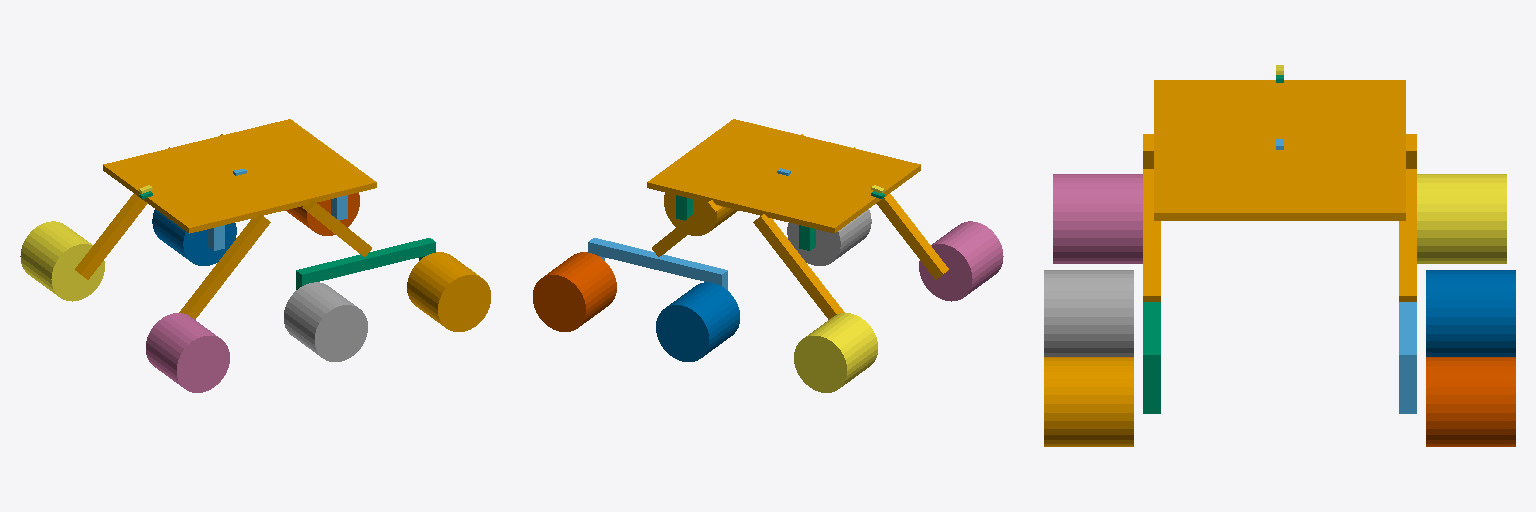
URDF robot description (rover):
<?xml version="1.0"?>

<robot name="rover">
  <link name="chassis">
    <inertial>
      <origin xyz="0 0 0" />
      <mass value="1.0" />
      <inertia  ixx="0.1" ixy="0.0"  ixz="0.0"  iyy="0.1"  iyz="0.0"  izz="0.1" />
    </inertial>
    <visual>
      <origin xyz="0 0 0.59"/>
      <geometry>
        <box size="0.7 0.56 0.02"/>
      </geometry>
    </visual>
    <collision>
      <origin xyz="0 0 0.59"/>
      <geometry>
        <box size="0.7 0.56 0.02"/>
      </geometry>
    </collision>

    <visual>
      <origin rpy= "0 0.7854 0" xyz="-0.25 0.284 0.4"/>
      <geometry>
        <box size="0.04 0.04 0.5"/>
      </geometry>
    </visual>

    <collision>
      <origin rpy= "0 0.7854 0" xyz="-0.25 0.284 0.4"/>
      <geometry>
        <box size="0.04 0.04 0.5"/>
      </geometry>
    </collision>

    <visual>
      <origin rpy= "0 0.7854 0" xyz="-0.25 -0.284 0.4"/>
      <geometry>
        <box size="0.04 0.04 0.5"/>
      </geometry>
    </visual>

    <collision>
      <origin rpy= "0 0.7854 0" xyz="-0.25 -0.284 0.4"/>
      <geometry>
        <box size="0.04 0.04 0.5"/>
      </geometry>
    </collision>


    <visual>
      <origin rpy= "0 -0.7854 0" xyz="0.2 0.284 0.475"/>
      <geometry>
        <box size="0.04 0.04 0.3"/>
      </geometry>
    </visual>

    <collision>
      <origin rpy= "0 -0.7854 0" xyz="0.2 0.284 0.475"/>
      <geometry>
        <box size="0.04 0.04 0.3"/>
      </geometry>
    </collision>

    <visual>
      <origin rpy= "0 -0.7854 0" xyz="0.2 -0.284 0.475"/>
      <geometry>
        <box size="0.04 0.04 0.3"/>
      </geometry>
    </visual>

    <collision>
      <origin rpy= "0 -0.7854 0" xyz="0.2 -0.284 0.475"/>
      <geometry>
        <box size="0.04 0.04 0.3"/>
      </geometry>
    </collision>
  </link>


    <link name="left_steer">
      <inertial>
        <origin xyz="0 0 -0.05" />
        <mass value="1" />
        <inertia  ixx="0.005" ixy="0.0"  ixz="0.0"  iyy="0.005"  iyz="0.0"  izz=".005" />
      </inertial>
      <visual>
        <origin xyz="0 0 0"/>
        <geometry>
          <box size="0.5 0.04 0.04"/>
        </geometry>
      </visual>
      <collision>
        <origin xyz="0 0 0"/>
        <geometry>
          <box size="0.5 0.04 0.04"/>
        </geometry>
      </collision>

      <visual>
        <origin xyz="0.23 0 -0.07285553390"/>
        <geometry>
          <box size="0.04 0.04 0.1057106781"/>
        </geometry>
      </visual>
      <collision>
        <origin xyz="0.23 0 -0.07285553390"/>
        <geometry>
          <box size="0.04 0.04 0.1057106781"/>
        </geometry>
      </collision>

      <visual>
        <origin xyz="-0.23 0 -0.07285553390"/>
        <geometry>
          <box size="0.04 0.04 0.1057106781"/>
        </geometry>
      </visual>
      <collision>
        <origin xyz="-0.23 0 -0.07285553390"/>
        <geometry>
          <box size="0.04 0.04 0.1057106781"/>
        </geometry>
      </collision>

    </link>

    <link name="right_steer">
      <inertial>
        <origin xyz="0 0 -0.05" />
        <mass value="1" />
        <inertia  ixx="0.005" ixy="0.0"  ixz="0.0"  iyy="0.005"  iyz="0.0"  izz=".005" />
      </inertial>
      <visual>
        <origin xyz="0 0 0"/>
        <geometry>
          <box size="0.5 0.04 0.04"/>
        </geometry>
      </visual>
      <collision>
        <origin xyz="0 0 0"/>
        <geometry>
          <box size="0.5 0.04 0.04"/>
        </geometry>
      </collision>

      <visual>
        <origin xyz="0.23 0 -0.07285553390"/>
        <geometry>
          <box size="0.04 0.04 0.1057106781"/>
        </geometry>
      </visual>
      <collision>
        <origin xyz="0.23 0 -0.07285553390"/>
        <geometry>
          <box size="0.04 0.04 0.1057106781"/>
        </geometry>
      </collision>

      <visual>
        <origin xyz="-0.23 0 -0.07285553390"/>
        <geometry>
          <box size="0.04 0.04 0.1057106781"/>
        </geometry>
      </visual>
      <collision>
        <origin xyz="-0.23 0 -0.07285553390"/>
        <geometry>
          <box size="0.04 0.04 0.1057106781"/>
        </geometry>
      </collision>

    </link>


    <link name="left_wheel_1">
      <inertial>
        <origin xyz="0 0.15 0" />
        <mass value="1" />
        <inertia  ixx="0.0009" ixy="0.0"  ixz="0.0"  iyy="0.0009"  iyz="0.0"  izz="0.001" />
      </inertial>
      <visual>
        <origin rpy="1.570796 0  0" xyz="0  0.1  0"/>
        <geometry>
            <cylinder radius="0.1" length="0.2" />
        </geometry>
      </visual>
      <collision>
        <origin rpy="1.570796 0  0" xyz="0  0.1  0"/>
        <geometry>
          <cylinder radius="0.1" length="0.2" />
        </geometry>
      </collision>
    </link>

    <link name="left_wheel_2">
      <inertial>
        <origin xyz="0 0.15 0" />
        <mass value="1" />
        <inertia  ixx="0.0009" ixy="0.0"  ixz="0.0"  iyy="0.0009"  iyz="0.0"  izz="0.001" />
      </inertial>
      <visual>
        <origin rpy="1.570796 0  0" xyz="0  0.1  0"/>
        <geometry>
            <cylinder radius="0.1" length="0.2" />
        </geometry>
      </visual>
      <collision>
        <origin rpy="1.570796 0  0" xyz="0  0.1  0"/>
        <geometry>
          <cylinder radius="0.1" length="0.2" />
        </geometry>
      </collision>
    </link>

    <link name="left_wheel_3">
      <inertial>
        <origin xyz="0 0.15 0" />
        <mass value="1" />
        <inertia  ixx="0.0009" ixy="0.0"  ixz="0.0"  iyy="0.0009"  iyz="0.0"  izz="0.001" />
      </inertial>
      <visual>
        <origin rpy="1.570796 0  0" xyz="0  0.1  0"/>
        <geometry>
            <cylinder radius="0.1" length="0.2" />
        </geometry>
      </visual>
      <collision>
        <origin rpy="1.570796 0  0" xyz="0  0.1  0"/>
        <geometry>
          <cylinder radius="0.1" length="0.2" />
        </geometry>
      </collision>
    </link>


    <link name="right_wheel_1">
      <inertial>
        <origin xyz="0 -0.15 0" />
        <mass value="1" />
        <inertia  ixx="0.0009" ixy="0.0"  ixz="0.0"  iyy="0.0009"  iyz="0.0"  izz="0.001" />
      </inertial>
      <visual>
        <origin rpy="1.570796 0  0" xyz="0  -0.1  0"/>
        <geometry>
            <cylinder radius="0.1" length="0.2" />
        </geometry>
      </visual>
      <collision>
        <origin rpy="1.570796 0  0" xyz="0  -0.1  0"/>
        <geometry>
          <cylinder radius="0.1" length="0.2" />
        </geometry>
      </collision>
    </link>


    <link name="right_wheel_2">
      <inertial>
        <origin xyz="0 -0.15 0" />
        <mass value="1" />
        <inertia  ixx="0.0009" ixy="0.0"  ixz="0.0"  iyy="0.0009"  iyz="0.0"  izz="0.001" />
      </inertial>
      <visual>
        <origin rpy="1.570796 0  0" xyz="0  -0.1  0"/>
        <geometry>
            <cylinder radius="0.1" length="0.2" />
        </geometry>
      </visual>
      <collision>
        <origin rpy="1.570796 0  0" xyz="0  -0.1  0"/>
        <geometry>
          <cylinder radius="0.1" length="0.2" />
        </geometry>
      </collision>
    </link>

    <link name="right_wheel_3">
      <inertial>
        <origin xyz="0 -0.15 0" />
        <mass value="1" />
        <inertia  ixx="0.0009" ixy="0.0"  ixz="0.0"  iyy="0.0009"  iyz="0.0"  izz="0.001" />
      </inertial>
      <visual>
        <origin rpy="1.570796 0  0" xyz="0  -0.1  0"/>
        <geometry>
            <cylinder radius="0.1" length="0.2" />
        </geometry>
      </visual>
      <collision>
        <origin rpy="1.570796 0  0" xyz="0  -0.1  0"/>
        <geometry>
          <cylinder radius="0.1" length="0.2" />
        </geometry>
      </collision>
    </link>


  <link name="imu_link">
    <inertial>
      <origin xyz="0 0 0" />
      <mass value="1" />
      <inertia  ixx="0.001" ixy="0.0"  ixz="0.0"  iyy="0.001"  iyz="0.0"  izz=".001" />
    </inertial>
    <visual>
      <origin xyz="0  0  0"/>
      <geometry>
          <box size=".04 .02 .01"/>
      </geometry>
    </visual>
    <collision>
      <origin xyz="0  0  0"/>
      <geometry>
        <box size=".04 .02 .01"/>
      </geometry>
    </collision>
  </link>

  <link name="camera_link">
    <inertial>
      <origin xyz="0 0 0" />
      <mass value="1" />
      <inertia  ixx="0.001" ixy="0.0"  ixz="0.0"  iyy="0.001"  iyz="0.0"  izz=".001" />
    </inertial>
    <visual>
      <origin xyz="0  0  0"/>
      <geometry>
          <box size=".04 .02 .01"/>
      </geometry>
    </visual>
    <collision>
      <origin xyz="0  0  0"/>
      <geometry>
        <box size=".04 .02 .01"/>
      </geometry>
    </collision>
  </link>

  <link name="lidar_link">
    <inertial>
      <origin xyz="0 0 0" />
      <mass value="1" />
      <inertia  ixx="0.001" ixy="0.0"  ixz="0.0"  iyy="0.001"  iyz="0.0"  izz=".001" />
    </inertial>
    <visual>
      <origin xyz="0  0  0"/>
      <geometry>
          <box size=".04 .02 .01"/>
      </geometry>
    </visual>
    <collision>
      <origin xyz="0  0  0"/>
      <geometry>
        <box size=".04 .02 .01"/>
      </geometry>
    </collision>
  </link>


  <joint name="imu_joint" type="fixed">
    <parent link="chassis"/>
    <child link="imu_link"/>
    <origin rpy="0  0  0" xyz="0       0       0.605"/>
    <axis xyz="0 0  0"/>
    <limit effort="0.0" lower="0" upper="0" velocity="0.0"/>
  </joint>


    <joint name="camera_joint" type="fixed">
      <parent link="chassis"/>
      <child link="camera_link"/>
      <origin rpy="0  0.0873  3.14159265" xyz="-0.35  0       0.605"/>
      <axis xyz="0 0  0"/>2
      <limit effort="0.0" lower="0" upper="0" velocity="0.0"/>
    </joint>

    <joint name="lidar_joint" type="fixed">
      <parent link="chassis"/>
      <child link="lidar_link"/>
      <origin rpy="0  0.1222  3.14159265"  xyz="-0.35       0       0.625"/>
      <axis xyz="0 0  0"/>
      <limit effort="0.0" lower="0" upper="0" velocity="0.0"/>
    </joint>

    <joint name="left_steer_hinge" type="revolute">
      <parent link="chassis"/>
      <child link="left_steer"/>
      <origin rpy="0  0  0" xyz="0.3060660171 0.284 0.32893398282"/>
      <axis xyz="0 -1  0"/>
      <limit effort="0.0" lower="-0.5" upper="1.0" velocity="0.0"/>
    </joint>

    <joint name="right_steer_hinge" type="revolute">
      <parent link="chassis"/>
      <child link="right_steer"/>
      <origin rpy="0  0  0" xyz="0.3060660171 -0.284 0.32893398282"/>
      <axis xyz="0 1  0"/>
      <limit effort="0.0" lower="-1" upper="0.5" velocity="0.0"/>
    </joint>

    <joint name="left_wheel_1_hinge" type="continuous">
      <parent link="chassis"/>
      <child link="left_wheel_1"/>
      <origin rpy="0  0  0" xyz=" -0.42677669529 0.304   0.22322330470"/>
      <axis xyz="0 -1  0"/>
      <limit effort="0" velocity="0"/>
    </joint>

    <joint name="right_wheel_1_hinge" type="continuous">
      <parent link="chassis"/>
      <child link="right_wheel_1"/>
      <origin rpy="0  0  0" xyz=" -0.42677669529 -0.304   0.22322330470"/>
      <axis xyz="0 1  0"/>
      <limit effort="0" velocity="0"/>
    </joint>

    <joint name="left_wheel_2_hinge" type="continuous">
      <parent link="left_steer"/>
      <child link="left_wheel_2"/>
      <origin rpy="0  0  0" xyz=" -0.23  0.04   -0.10571067812"/>
      <axis xyz="0 -1  0"/>
      <limit effort="0" velocity="0"/>
    </joint>
    <joint name="left_wheel_3_hinge" type="continuous">
      <parent link="left_steer"/>
      <child link="left_wheel_3"/>
      <origin rpy="0  0  0" xyz=" 0.23  0.04   -0.10571067812"/>
      <axis xyz="0 -1  0"/>
      <limit effort="0" velocity="0"/>
    </joint>

    <joint name="right_wheel_2_hinge" type="continuous">
      <parent link="right_steer"/>
      <child link="right_wheel_2"/>
      <origin rpy="0  0  0" xyz=" -0.23  -0.04   -0.10571067812"/>
      <axis xyz="0 1  0"/>
      <limit effort="0" velocity="0"/>
    </joint>

    <joint name="right_wheel_3_hinge" type="continuous">
      <parent link="right_steer"/>
      <child link="right_wheel_3"/>
      <origin rpy="0  0  0" xyz=" 0.23  -0.04   -0.10571067812"/>
      <axis xyz="0 1  0"/>
      <limit effort="0" velocity="0"/>
    </joint>




  <gazebo reference="chassis">
    <material>Gazebo/Blue</material>
  </gazebo>

  <gazebo reference ="left_wheel_1">
      <mu1 value="0.8"/>
      <mu2 value="0.8"/>
      <kp value="10000000.0"/>
      <kd value= "1.0"/>
      <minDepth>0.001</minDepth>
      <maxVel>0.0</maxVel>
      <material>Gazebo/Black</material>
  </gazebo>

  <gazebo reference ="right_wheel_1">
      <mu1 value="0.8"/>
      <mu2 value="0.8"/>
      <kp value="10000000.0"/>
      <kd value= "1.0"/>
      <minDepth>0.001</minDepth>
      <maxVel>0.0</maxVel>
      <material>Gazebo/Black</material>
  </gazebo>
  <gazebo reference ="left_wheel_2">
      <mu1 value="0.8"/>
      <mu2 value="0.8"/>
      <kp value="10000000.0"/>
      <kd value= "1.0"/>
      <minDepth>0.001</minDepth>
      <maxVel>0.0</maxVel>
      <material>Gazebo/Black</material>
  </gazebo>
  <gazebo reference ="right_wheel_2">
      <mu1 value="0.8"/>
      <mu2 value="0.8"/>
      <kp value="10000000.0"/>
      <kd value= "1.0"/>
      <minDepth>0.001</minDepth>
      <maxVel>0.0</maxVel>
      <material>Gazebo/Black</material>
  </gazebo>


  <gazebo reference ="right_wheel_3">
      <mu1 value="0.8"/>
      <mu2 value="0.8"/>
      <kp value="10000000.0"/>
      <kd value= "1.0"/>
      <minDepth>0.001</minDepth>
      <maxVel>0.0</maxVel>
      <material>Gazebo/Black</material>
  </gazebo>

  <gazebo reference ="left_wheel_3">
      <mu1 value="0.8"/>
      <mu2 value="0.8"/>
      <kp value="10000000.0"/>
      <kd value= "1.0"/>
      <minDepth>0.001</minDepth>
      <maxVel>0.0</maxVel>
      <material>Gazebo/Black</material>
  </gazebo>



  <gazebo reference="imu_link">
      <gravity>true</gravity>
      <sensor name="imu_sensor" type="imu">
        <always_on>false</always_on>
        <visualize>true</visualize>
        <topic>__default_topic__</topic>
        <plugin filename="libgazebo_ros_imu_sensor.so" name="imu_plugin">
          <topicName>rover/imu</topicName>
          <bodyName>imu_link</bodyName>
          <updateRateHZ>10.0</updateRateHZ>
          <gaussianNoise>0.0</gaussianNoise>
          <xyzOffset>0 0 0</xyzOffset>
          <rpyOffset>0 0 0</rpyOffset>
          <frameName>imu_link</frameName>
        </plugin>
        <pose>0 0  0.0 0 0 0</pose>
      </sensor>
    </gazebo>

    <gazebo reference="camera_link">
      <sensor name="d_camera" type="depth">
        <pose>-0.0  0 0.0 0 0 0</pose>
        <visualize>false</visualize>
        <update_rate>10</update_rate>
        <camera>
          <horizontal_fov>1.047198</horizontal_fov>
          <image>
            <width>640</width>
            <height>480</height>
            <format>R8G8B8</format>
          </image>
          <clip>
            <near>0.05</near>
            <far>3</far>
          </clip>
        </camera>
        <plugin name="d_controller" filename="libgazebo_ros_openni_kinect.so">
          <baseline>0.2</baseline>
          <alwaysOn>true</alwaysOn>
          <updateRate>1.0</updateRate>
          <cameraName>kamera_ir</cameraName>
          <imageTopicName>/kamera/depth/image_raw2</imageTopicName>
          <cameraInfoTopicName>/kamera/depth/camera_info2</cameraInfoTopicName>
          <depthImageTopicName>/kamera/depth/image_raw</depthImageTopicName>
          <depthImageInfoTopicName>/kamera/depth/camera_info</depthImageInfoTopicName>
          <pointCloudTopicName>/kamera/depth/points</pointCloudTopicName>
          <frameName>image</frameName>
          <pointCloudCutoff>0.5</pointCloudCutoff>
          <pointCloudCutoffMax>3.0</pointCloudCutoffMax>
          <distortionK1>0.00000001</distortionK1>
          <distortionK2>0.00000001</distortionK2>
          <distortionK3>0.00000001</distortionK3>
          <distortionT1>0.00000001</distortionT1>
          <distortionT2>0.00000001</distortionT2>
          <CxPrime>0</CxPrime>
          <Cx>0</Cx>
          <Cy>0</Cy>
          <focalLength>0</focalLength>
          <hackBaseline>0</hackBaseline>
        </plugin>
      </sensor>
    </gazebo>


    <gazebo reference="lidar_link">
      <sensor type="gpu_ray" name="head_hokuyo_sensor">
        <pose>0 0 0.0 0 0 0</pose>
        <visualize>false</visualize>
        <update_rate>40</update_rate>
        <ray>
          <scan>
            <horizontal>
              <samples>720</samples>
              <resolution>1</resolution>
              <min_angle>-1.570796</min_angle>
              <max_angle>1.570796</max_angle>
            </horizontal>
          </scan>
          <range>
            <min>0.10</min>
            <max>30.0</max>
            <resolution>0.01</resolution>
          </range>
          <noise>
            <type>gaussian</type>
            <!-- Noise parameters based on published spec for Hokuyo laser
                 achieving "+-30mm" accuracy at range < 10m.  A mean of 0.0m and
                 stddev of 0.01m will put 99.7% of samples within 0.03m of the true
                 reading. -->
            <mean>0.0</mean>
            <stddev>0.01</stddev>
          </noise>
        </ray>
        <plugin name="gazebo_ros_head_hokuyo_controller" filename="libgazebo_ros_gpu_laser.so">
          <topicName>/rover/laser/scan</topicName>
          <frameName>hokuyo_link</frameName>
        </plugin>
      </sensor>
    </gazebo>



    <gazebo>
      <plugin name="skid_steer_drive_controller" filename="libgazebo_ros_skid_steer_drive.so">
        <updateRate>50.0</updateRate>
        <robotNamespace>/rover</robotNamespace>
        <leftRearJoint>left_wheel_2_hinge</leftRearJoint>
        <rightRearJoint>right_wheel_2_hinge</rightRearJoint>
        <leftFrontJoint>left_wheel_1_hinge</leftFrontJoint>
        <rightFrontJoint>right_wheel_1_hinge</rightFrontJoint>
        <wheelSeparation>0.608</wheelSeparation>
        <wheelDiameter>0.2</wheelDiameter>
        <robotBaseFrame>chassis</robotBaseFrame>
        <torque>20</torque>
        <topicName>cmd_vel</topicName>
        <broadcastTF>true</broadcastTF>
      </plugin>


      <plugin name="p3d_base_controller" filename="libgazebo_ros_p3d.so">
        <alwaysOn>true</alwaysOn>
        <updateRate>50.0</updateRate>
        <bodyName>chassis</bodyName>
        <topicName>ground_truth/state</topicName>
        <gaussianNoise>0.01</gaussianNoise>
        <frameName>world</frameName>
        <xyzOffsets>0 0 0</xyzOffsets>
        <rpyOffsets>0 0 0</rpyOffsets>
      </plugin>


    </gazebo>


</robot>

--- Render facts (derived) ---
3 views of the same robot in one strip: view 1: azimuth 30°, elevation 25°; view 2: azimuth 150°, elevation 25°; view 3: azimuth 270°, elevation 25° (orthographic).
Robot: rover — 12 links, 11 joints (2 revolute, 6 continuous, 3 fixed); root link chassis; default pose: every joint at zero.
Visible links, largest first — view 1: chassis, right_wheel_1, right_wheel_2, right_wheel_3, left_wheel_1, right_steer, left_wheel_2, left_wheel_3, left_steer; view 2: chassis, left_wheel_1, left_wheel_2, left_wheel_3, right_wheel_1, left_steer, right_wheel_2, right_wheel_3, right_steer; view 3: chassis, left_wheel_1, left_wheel_3, right_wheel_1, right_wheel_3, left_wheel_2, right_wheel_2, left_steer, right_steer.
Link boxes in pixels (x1,y1,x2,y2): chassis: [75, 119, 376, 319]; right_wheel_1: [146, 313, 229, 392]; right_wheel_2: [284, 282, 367, 361]; right_wheel_3: [407, 252, 490, 331]; left_wheel_1: [20, 221, 104, 301]; right_steer: [296, 238, 435, 289]; left_wheel_2: [152, 209, 236, 265]; left_wheel_3: [285, 192, 359, 235]; left_steer: [208, 195, 347, 250]; chassis: [647, 119, 948, 319]; left_wheel_1: [794, 313, 877, 392]; left_wheel_2: [656, 282, 739, 361]; left_wheel_3: [533, 252, 616, 331]; right_wheel_1: [919, 221, 1003, 301]; left_steer: [588, 238, 727, 289]; right_wheel_2: [787, 209, 871, 265]; right_wheel_3: [664, 192, 738, 235]; right_steer: [676, 195, 815, 250]; chassis: [1143, 80, 1416, 301]; left_wheel_1: [1417, 174, 1506, 263]; left_wheel_3: [1426, 357, 1515, 446]; right_wheel_1: [1053, 174, 1142, 263]; right_wheel_3: [1044, 357, 1133, 446]; left_wheel_2: [1426, 270, 1515, 356]; right_wheel_2: [1044, 270, 1133, 356]; left_steer: [1399, 302, 1416, 413]; right_steer: [1143, 302, 1160, 413].
Bounding box of the posed robot: 1.16 × 1.05 × 0.5092 m (x, y, z).
Geometry: primitives only (box / cylinder / sphere), no mesh files.